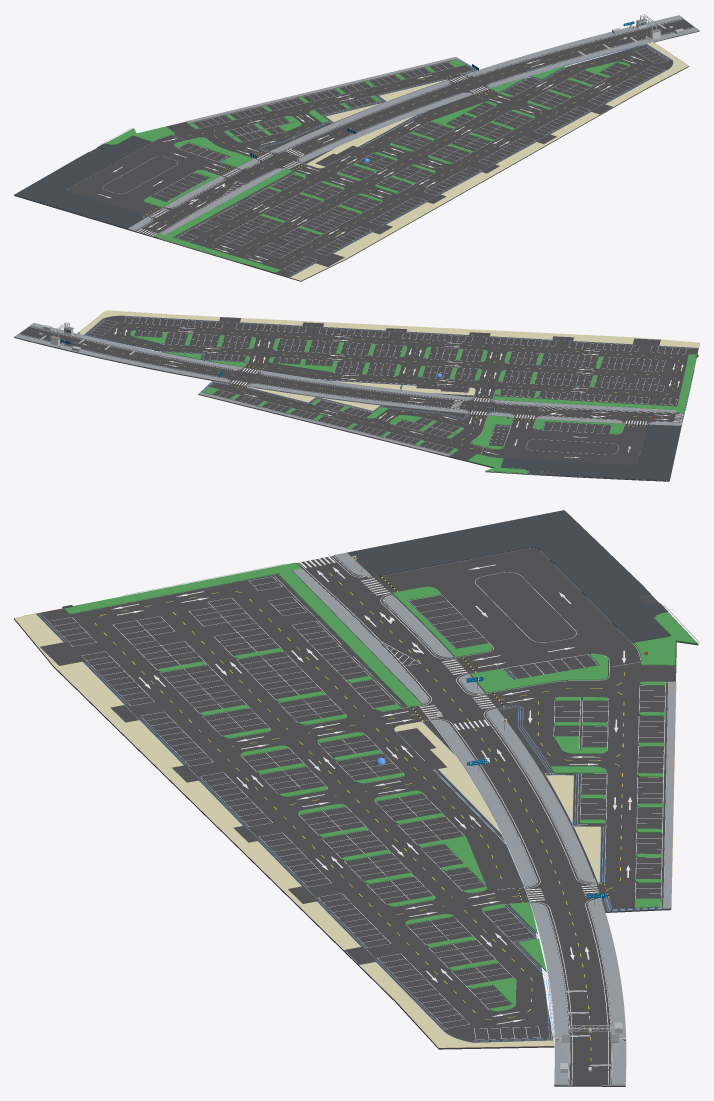
File: 3d-jutsu-Bai-do-xe-bien-bao-3D-tu-phia-dong-2026-11-20-07-23-44.glb
3 views of the same model, one above another, from view 1: azimuth 30°, elevation 25°; view 2: azimuth 150°, elevation 25°; view 3: azimuth 270°, elevation 25° (orthographic). The views are drawn at different scales.
Parts seen in each view (by area): view 1: LOT_ground_z0, LOT_grass_raised, LOT_island_VH_loai2_raised, LOT_hatch_ANGLE_yellow_pending, LOT_stall_lines_outlines, LOT_granite_sidewalk_raised, LOT_ditch_lines, LOT_arrow_marks, LOT_road_paint_white, LOT_road_paint_yellow_11, LOT_crosswalk_stripes; view 2: LOT_ground_z0, LOT_grass_raised, LOT_island_VH_loai2_raised, LOT_hatch_ANGLE_yellow_pending, LOT_stall_lines_outlines, LOT_granite_sidewalk_raised, LOT_ditch_lines, LOT_arrow_marks, LOT_road_paint_white, LOT_road_paint_yellow_11, LOT_crosswalk_stripes; view 3: LOT_ground_z0, LOT_grass_raised, LOT_island_VH_loai2_raised, LOT_stall_lines_outlines, LOT_hatch_ANGLE_yellow_pending, LOT_granite_sidewalk_raised, LOT_ditch_lines, LOT_arrow_marks, LOT_road_paint_white, LOT_road_paint_yellow_11, LOT_crosswalk_stripes.
Boxes of the visible parts, bbox=[...] form: LOT_ground_z0: bbox=[14, 18, 699, 281]; LOT_grass_raised: bbox=[105, 59, 629, 272]; LOT_island_VH_loai2_raised: bbox=[128, 15, 699, 234]; LOT_hatch_ANGLE_yellow_pending: bbox=[290, 42, 688, 280]; LOT_stall_lines_outlines: bbox=[67, 18, 699, 272]; LOT_granite_sidewalk_raised: bbox=[14, 136, 151, 228]; LOT_ditch_lines: bbox=[169, 43, 673, 276]; LOT_arrow_marks: bbox=[98, 56, 643, 262]; LOT_road_paint_white: bbox=[136, 19, 692, 236]; LOT_road_paint_yellow_11: bbox=[150, 33, 647, 263]; LOT_crosswalk_stripes: bbox=[137, 75, 487, 236]; LOT_ground_z0: bbox=[14, 313, 699, 481]; LOT_grass_raised: bbox=[130, 330, 696, 473]; LOT_island_VH_loai2_raised: bbox=[14, 323, 682, 456]; LOT_hatch_ANGLE_yellow_pending: bbox=[78, 310, 699, 410]; LOT_stall_lines_outlines: bbox=[19, 315, 686, 480]; LOT_granite_sidewalk_raised: bbox=[501, 424, 681, 480]; LOT_ditch_lines: bbox=[84, 315, 698, 426]; LOT_arrow_marks: bbox=[114, 327, 683, 457]; LOT_road_paint_white: bbox=[19, 327, 682, 424]; LOT_road_paint_yellow_11: bbox=[50, 327, 678, 448]; LOT_crosswalk_stripes: bbox=[231, 368, 683, 424]; LOT_ground_z0: bbox=[14, 538, 698, 1086]; LOT_grass_raised: bbox=[63, 562, 697, 1011]; LOT_island_VH_loai2_raised: bbox=[292, 552, 675, 1085]; LOT_stall_lines_outlines: bbox=[49, 548, 668, 1085]; LOT_hatch_ANGLE_yellow_pending: bbox=[14, 614, 600, 1047]; LOT_granite_sidewalk_raised: bbox=[347, 510, 670, 642]; LOT_ditch_lines: bbox=[36, 574, 669, 1042]; LOT_arrow_marks: bbox=[111, 564, 631, 1024]; LOT_road_paint_white: bbox=[298, 556, 608, 1084]; LOT_road_paint_yellow_11: bbox=[95, 565, 624, 1060]; LOT_crosswalk_stripes: bbox=[299, 556, 598, 901].
Size of the model in its own units: 264 by 6.1 by 133.
